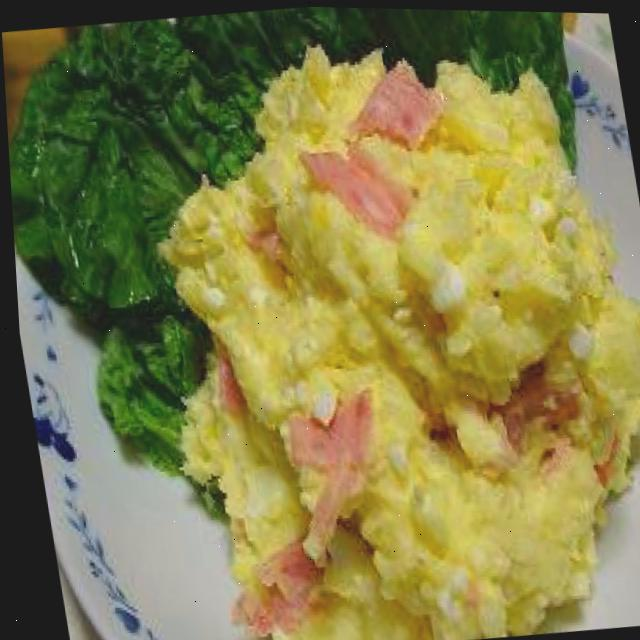蔬菜料理: (102, 22, 640, 640)
